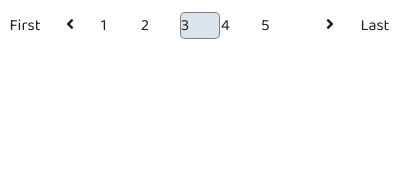
it: <Pagination /> › should fetch data for the next page when Next is clicked
This screenshot has width=406, height=172.
Expected: the text "1" is shown, left=101, top=13, right=107, bottom=38
Expected: the text "2" is shown, left=141, top=13, right=149, bottom=38
Click the element with test id "testPagination.next" at (330, 24), box left=320, top=16, right=340, bottom=32
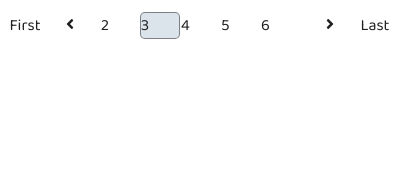
Expected: the text "2" is shown, left=101, top=13, right=109, bottom=38
Now the text "6" is shown, box left=261, top=13, right=270, bottom=38
